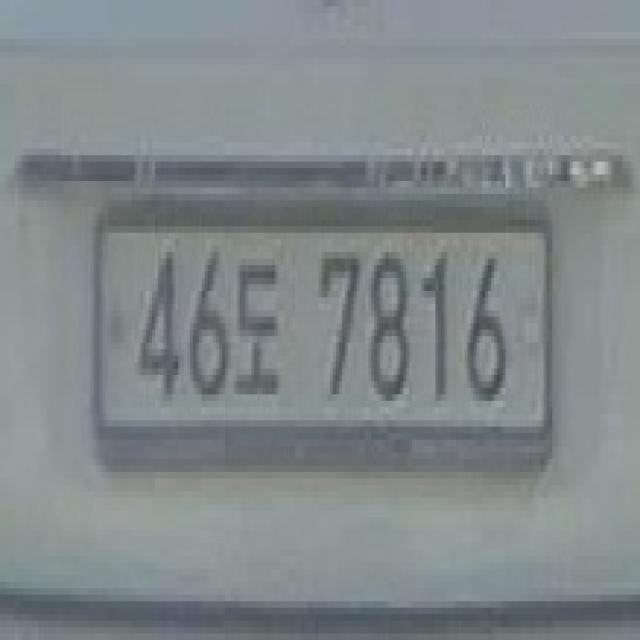1: (417, 252, 458, 426)
4: (133, 252, 186, 420)
6: (461, 256, 518, 414), (190, 246, 232, 417)
7: (310, 242, 363, 418)
8: (368, 248, 414, 418)
do: (237, 255, 286, 422)
license_plate: (83, 190, 572, 484)
